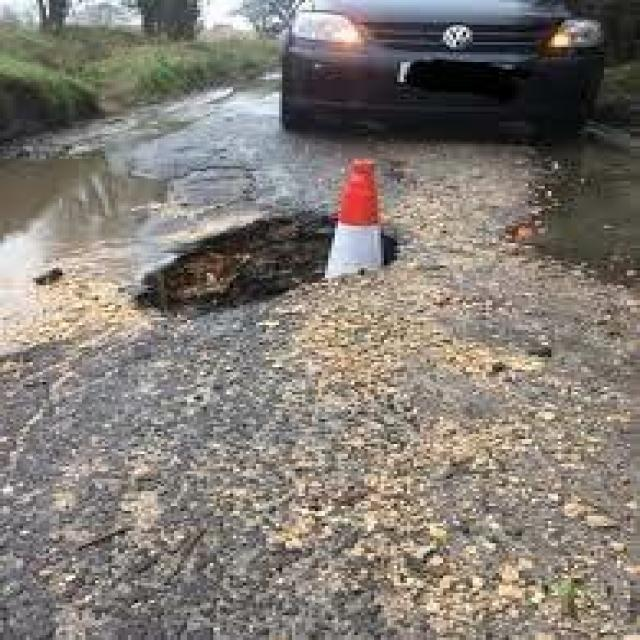Pothole: (125, 184, 426, 362)
